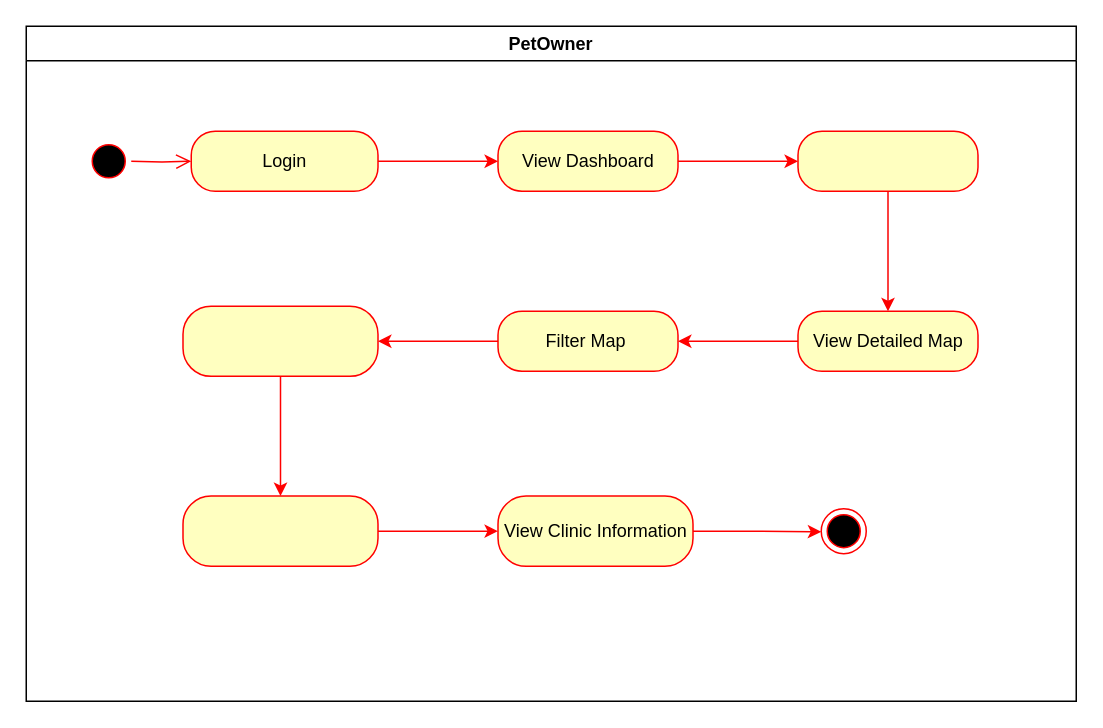
Image size: 1103x728. Some labels were removed from this diagram. Each missing label, with the box of its shape:
Click on Map: (796, 130, 978, 191)
Click on Veterinary Clinic: (182, 495, 378, 566)
View Veterinary Clinic Map: (182, 305, 378, 376)
